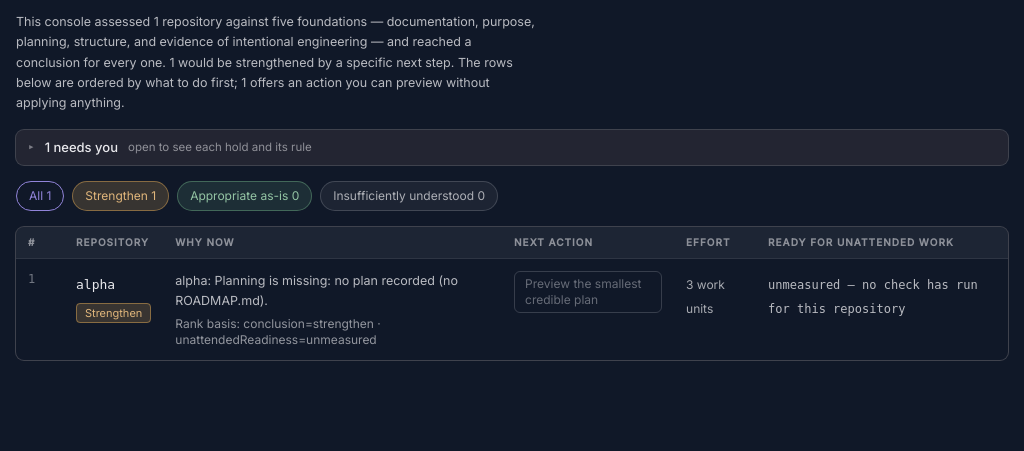
Test: TodayView — Needs you collapses, blocking never does › opens the holds and shows each rule with its reason
Click the button with test id "today-holds-toggle". click: (81, 147)
box: [16,130,1008,165]
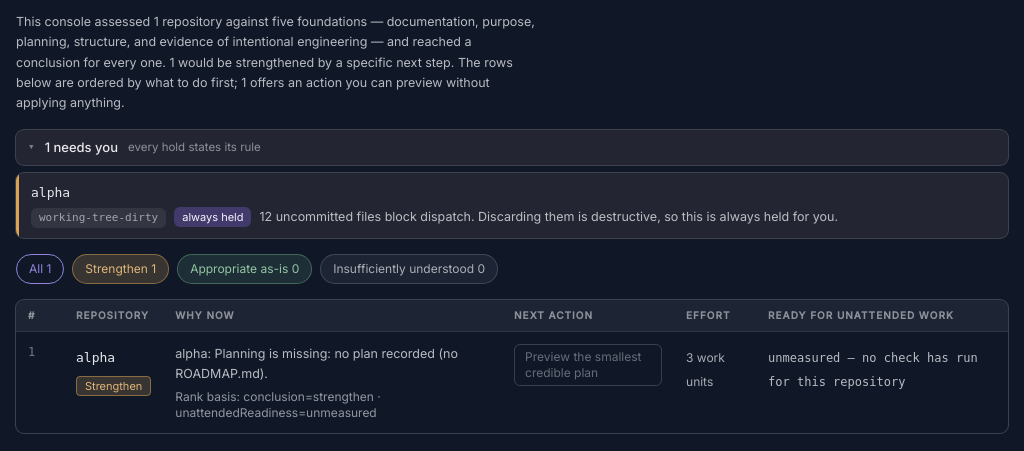
expect the list item with test id "today-hold-working-tree-dirty" shows "12 uncommitted files block dispatch": met, box [260,209,838,224]
expect the list item with test id "today-hold-working-tree-dirty" shows "destructive": met, box [260,209,838,224]
expect the text "always held" is shown: met, box [174,207,252,227]
